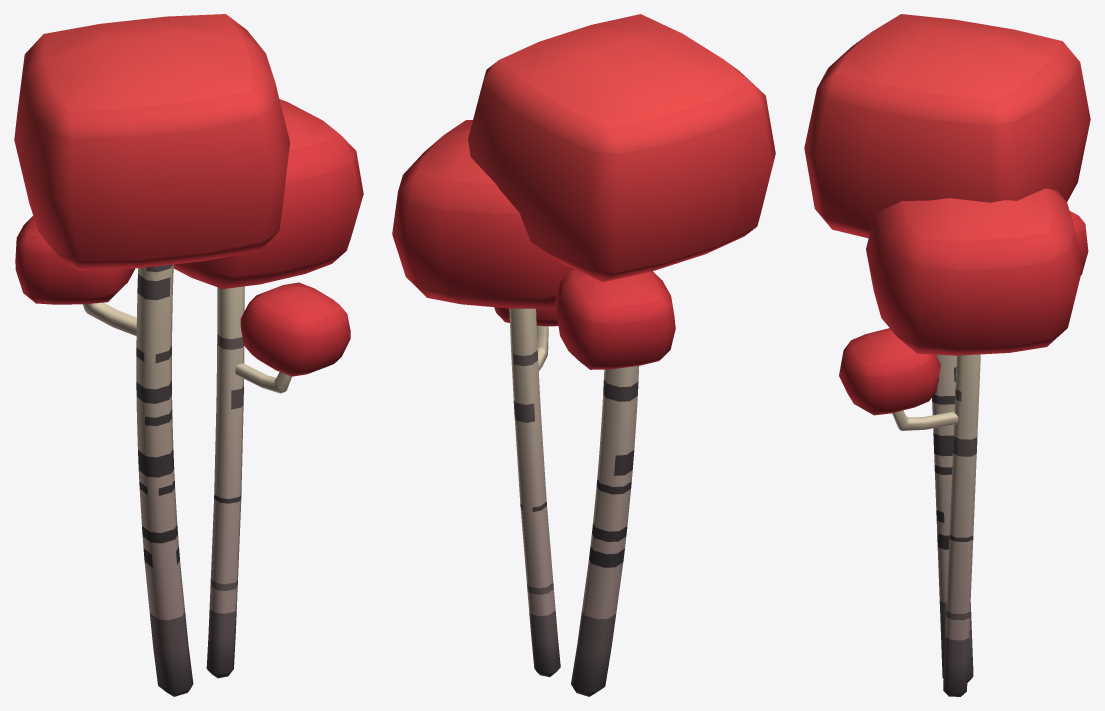
File: birch_tree_col3_06.fbx
The picture shows the model from 3 angles, left to right: view 1: azimuth 30°, elevation 25°; view 2: azimuth 150°, elevation 25°; view 3: azimuth 270°, elevation 25°; orthographic projection. The views are drawn at different scales.
Parts seen in each view (by area): view 1: birch_tree_SC_col3_06; view 2: birch_tree_SC_col3_06; view 3: birch_tree_SC_col3_06.
Boxes of the visible parts, bbox=[...] form: birch_tree_SC_col3_06: bbox=[14, 14, 363, 696]; birch_tree_SC_col3_06: bbox=[392, 14, 775, 696]; birch_tree_SC_col3_06: bbox=[804, 14, 1090, 696].
Bounding box in the file's own units: 373 × 706 × 294.
